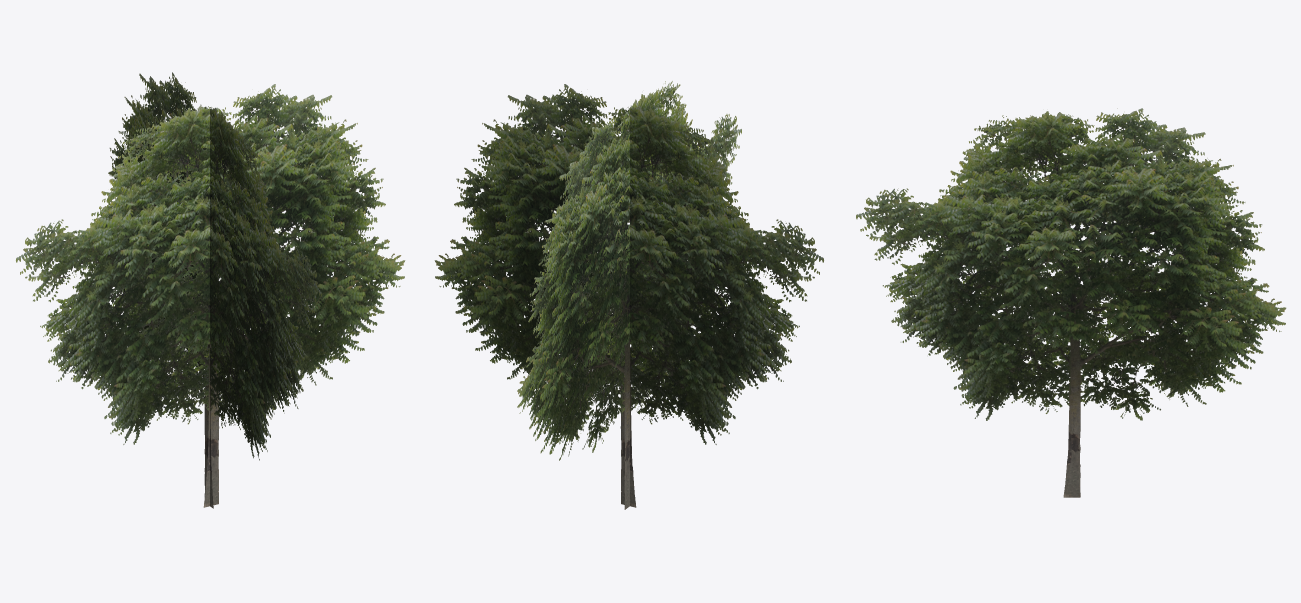
The model's file is tree.fbx.
The picture shows the model from 3 angles, left to right: view 1: azimuth 30°, elevation 25°; view 2: azimuth 150°, elevation 25°; view 3: azimuth 270°, elevation 25°; orthographic projection. The views are drawn at different scales.
Parts seen in each view (by area): view 1: Cube; view 2: Cube; view 3: Cube.
Boxes of the visible parts, x1=… form: Cube: x1=16, y1=72, x2=405, y2=508; Cube: x1=434, y1=81, x2=823, y2=509; Cube: x1=856, y1=108, x2=1286, y2=497.
Size of the model in its own units: 1500 by 1500 by 1500.
1 material, 1 textured.
